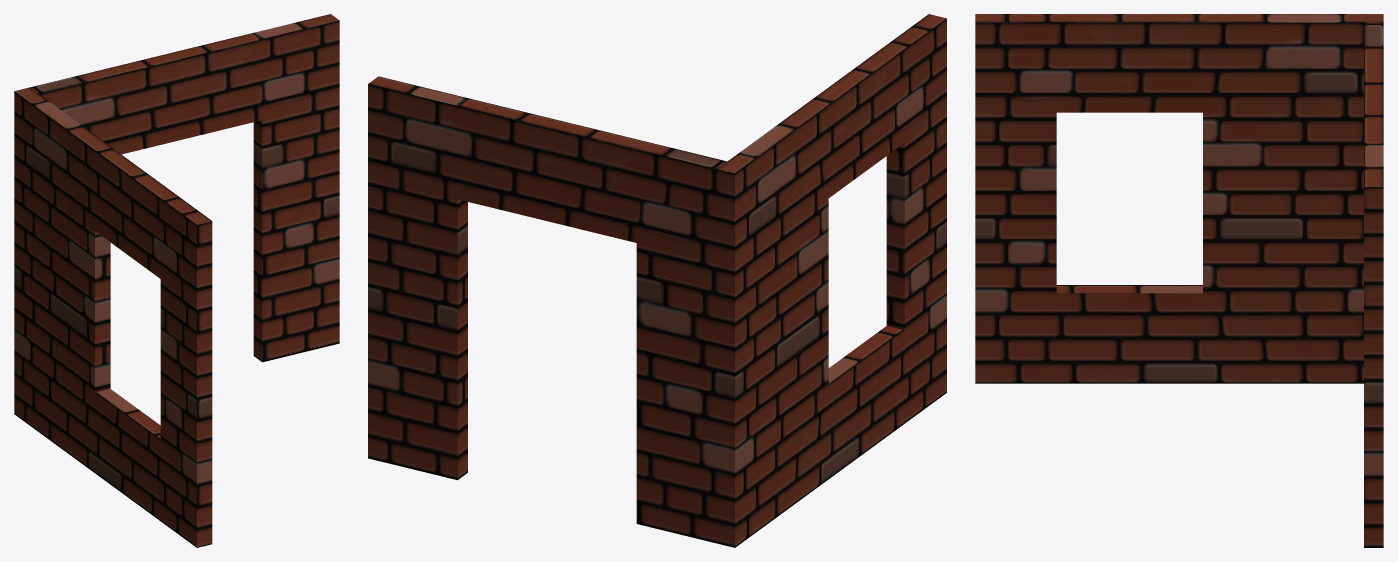
Rendered from Wall_1_Corner_F.fbx.
3 renders of one model, left to right at view 1: azimuth 30°, elevation 25°; view 2: azimuth 150°, elevation 25°; view 3: azimuth 270°, elevation 25°, orthographic. The views are drawn at different scales.
Visible parts, largest first — view 1: polySurface9; view 2: polySurface9; view 3: polySurface9.
Boxes of the visible parts, left/top/right/bottom form: polySurface9: left=14, top=14, right=339, bottom=547; polySurface9: left=368, top=14, right=946, bottom=547; polySurface9: left=975, top=14, right=1383, bottom=547.
Size of the model in its own units: 4.1 by 4 by 4.1.
